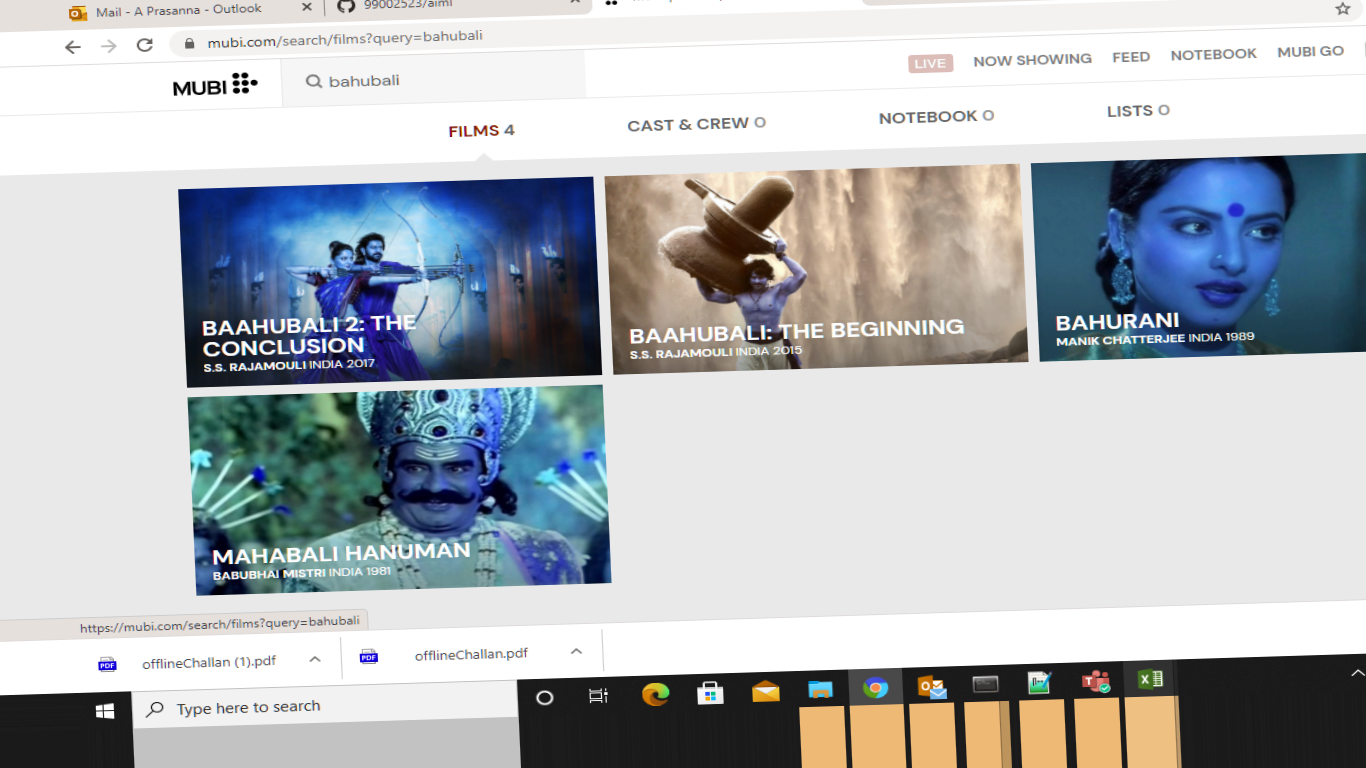searchicon: (289, 62, 326, 98)
searchtextbox: (285, 55, 589, 105)
